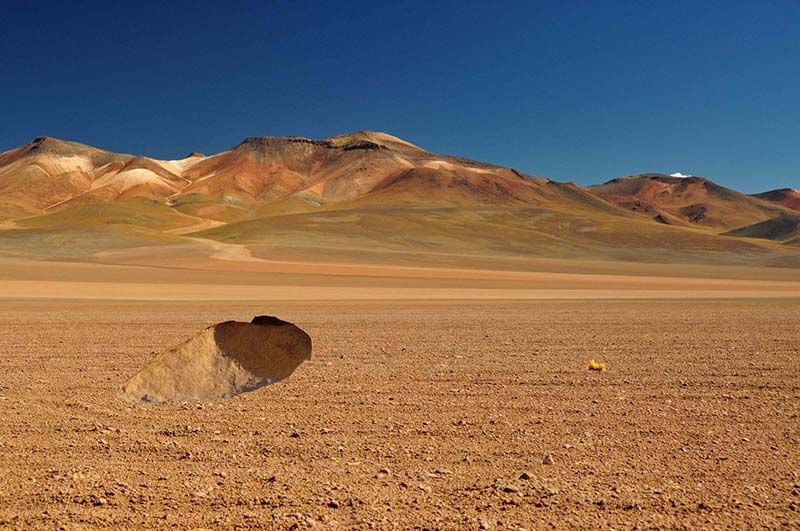Rocks: (120, 311, 316, 409)
